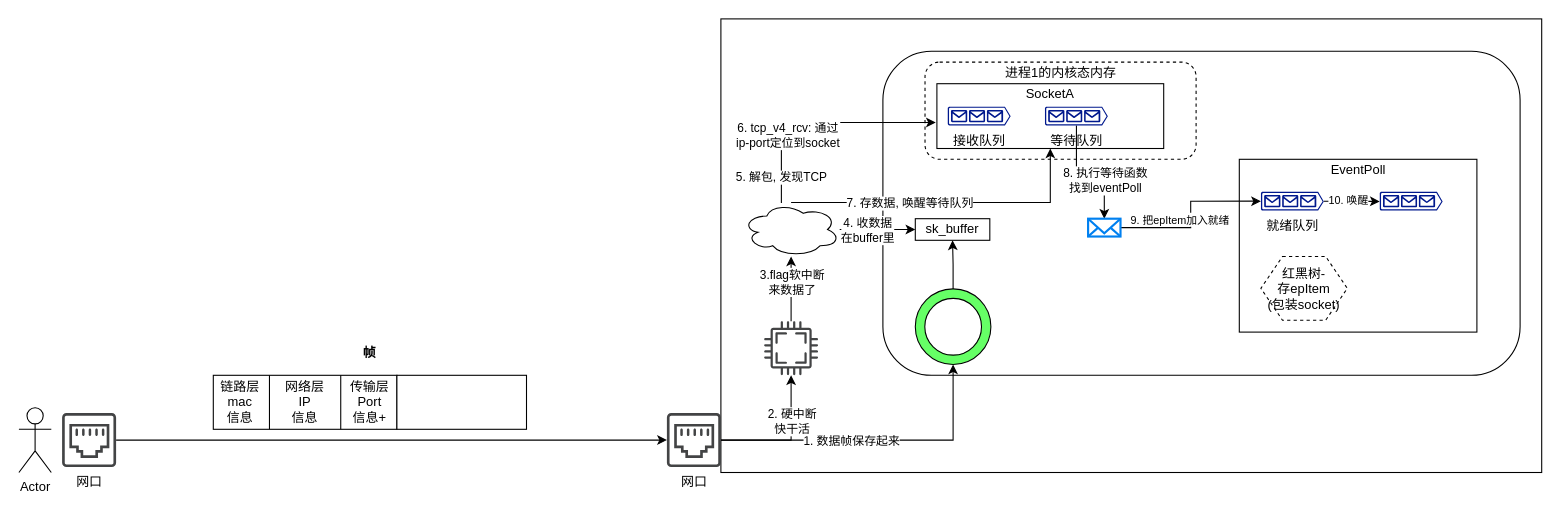
Image size: 1561x514. Some labels were removed from this diagram. The centre of each missing label's shape, as x and y in pixels:
"ksoftirqd 内核线程" belongs at [790,228].
"RingBuffer" belongs at [953,326].
"数据" belongs at [461,401].
"软中断队列" belongs at [1410,200].
